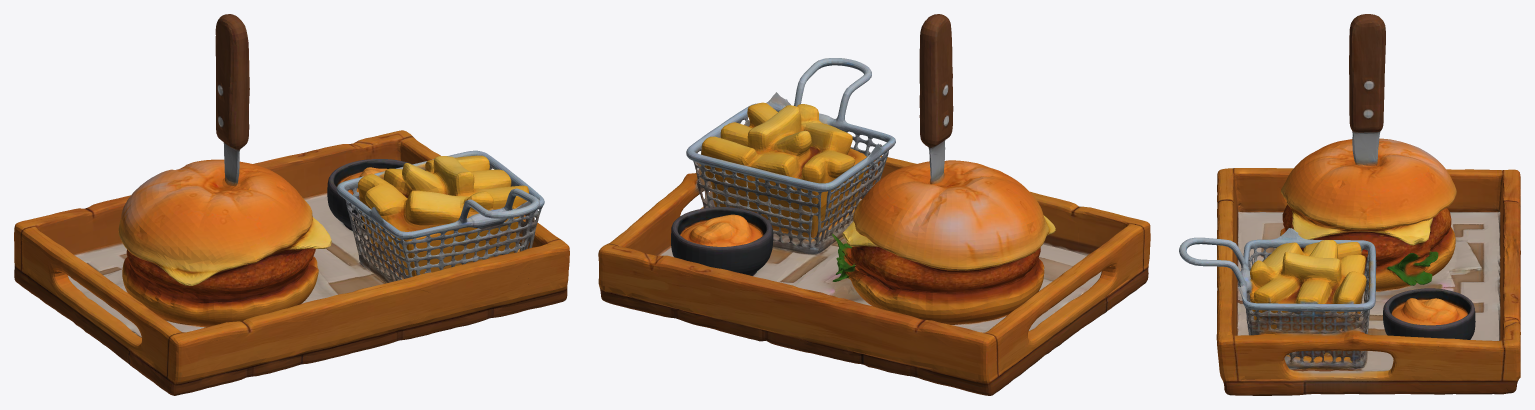
File: dish-optimized.glb
The picture shows the model from 3 angles, left to right: view 1: azimuth 30°, elevation 25°; view 2: azimuth 150°, elevation 25°; view 3: azimuth 270°, elevation 25°; orthographic projection. The views are drawn at different scales.
Parts seen in each view (by area): view 1: tripo_node_d66e9480-6e64-499c-8da4-48503ccbe451; view 2: tripo_node_d66e9480-6e64-499c-8da4-48503ccbe451; view 3: tripo_node_d66e9480-6e64-499c-8da4-48503ccbe451.
Part boxes in pixels (left/top/right/bottom): tripo_node_d66e9480-6e64-499c-8da4-48503ccbe451: left=14, top=14, right=569, bottom=395; tripo_node_d66e9480-6e64-499c-8da4-48503ccbe451: left=598, top=14, right=1150, bottom=395; tripo_node_d66e9480-6e64-499c-8da4-48503ccbe451: left=1179, top=14, right=1520, bottom=395.
Bounding box in the file's own units: 0.9913 × 0.6955 × 0.8079.
1 material, 1 textured.
